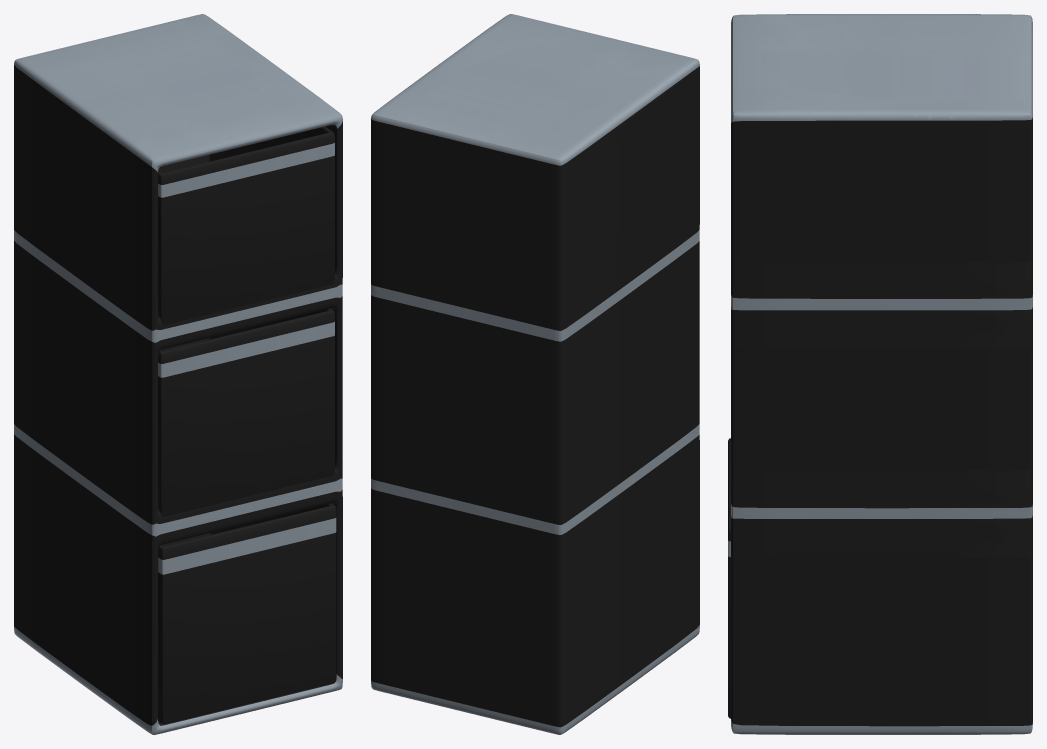
File: cabinet2.fbx
3 views of the same model, side by side, from view 1: azimuth 30°, elevation 25°; view 2: azimuth 150°, elevation 25°; view 3: azimuth 270°, elevation 25° (orthographic). The views are drawn at different scales.
Parts seen in each view (by area): view 1: cabinet2, cabinet2.1, cabinet2.2, cabinet2.3; view 2: cabinet2; view 3: cabinet2, cabinet2.1.
Part boxes in pixels (box(x1,y1,x2,y2)): cabinet2: box(14, 14, 342, 734); cabinet2.1: box(158, 503, 336, 724); cabinet2.2: box(158, 308, 334, 516); cabinet2.3: box(158, 126, 334, 325); cabinet2: box(371, 14, 699, 734); cabinet2: box(731, 14, 1032, 734); cabinet2.1: box(728, 438, 730, 718).
Size of the model in its own units: 75.28 by 215 by 95.13.
